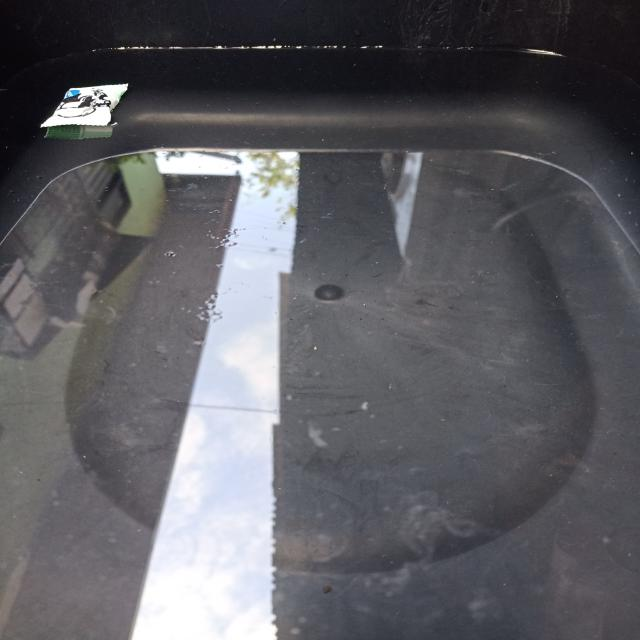Plastic Wrapper: (41, 84, 127, 127)
